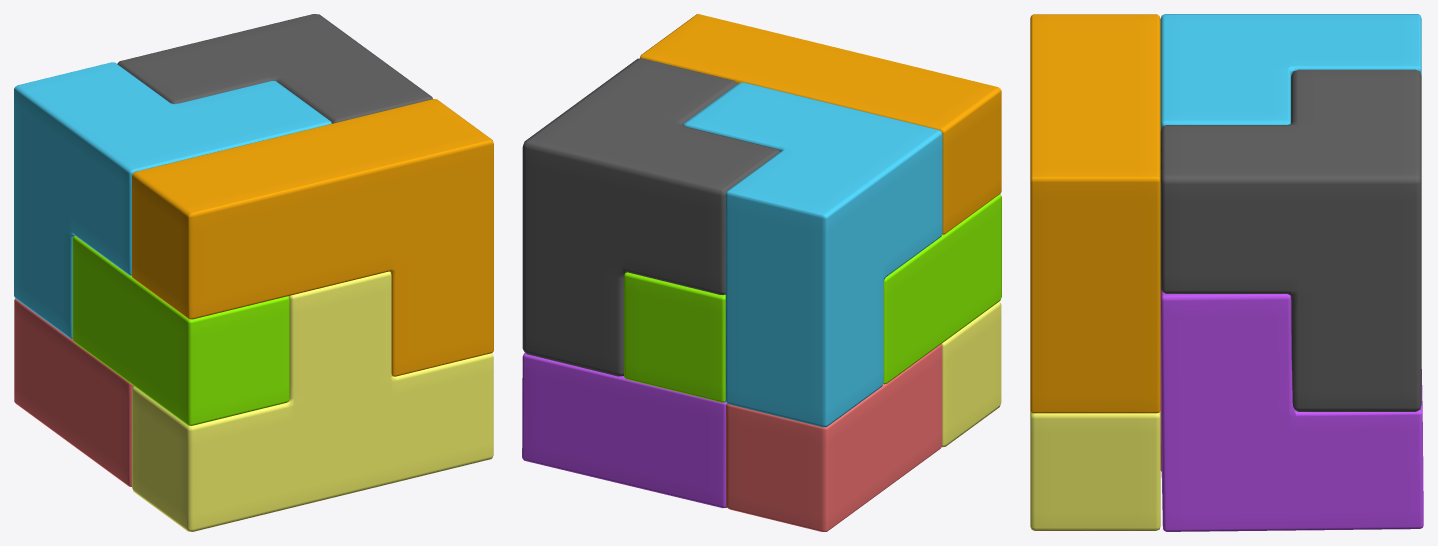
File: Ayrıi12.fbx
The picture shows the model from 3 angles, left to right: view 1: azimuth 30°, elevation 25°; view 2: azimuth 150°, elevation 25°; view 3: azimuth 270°, elevation 25°; orthographic projection. The views are drawn at different scales.
Parts seen in each view (by area): view 1: pCube3, pCube4, pCube6, pCube5, pCube7, pCube2; view 2: pCube6, pCube7, pCube3, pCube5, pCube2, pCube8, pCube4; view 3: pCube7, pCube3, pCube8, pCube6, pCube4.
Part boxes in pixels (x1,y1,x2,y2): pCube3: (132,99,493,376); pCube4: (132,271,493,531); pCube6: (14,62,331,338); pCube5: (72,235,289,425); pCube7: (117,14,432,123); pCube2: (14,299,133,486); pCube6: (683,82,942,427); pCube7: (522,58,779,376); pCube3: (639,14,1001,234); pCube5: (624,194,1001,402); pCube2: (726,344,942,531); pCube8: (522,353,726,508); pCube4: (942,301,1001,447); pCube7: (1160,69,1421,411); pCube3: (1030,14,1160,413); pCube8: (1160,288,1423,531); pCube6: (1160,14,1421,130); pCube4: (1030,411,1160,530).
Size of the model in its own units: 300 by 300 by 302.
